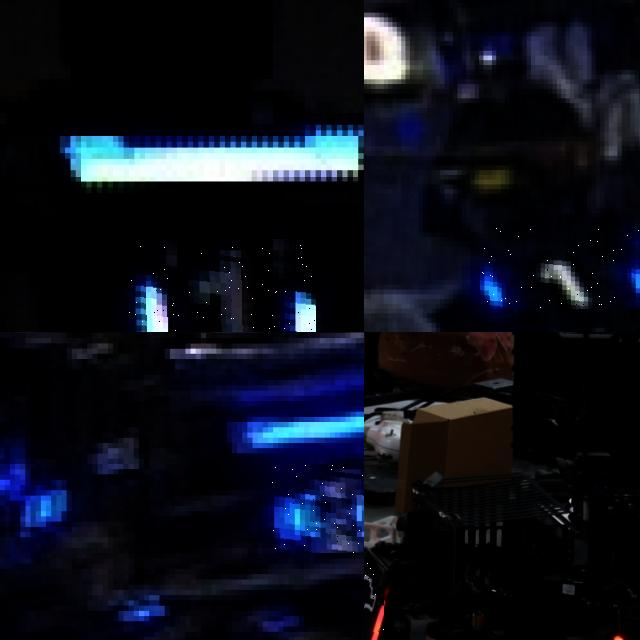B1: (129, 244, 315, 332), (474, 227, 640, 308)
B2: (268, 464, 364, 553)
Rs: (364, 560, 384, 640)
